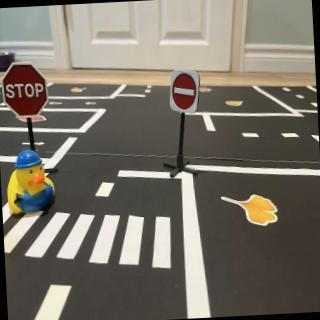duck_specialty: (6, 151, 57, 218)
road_crosswalk: (3, 193, 177, 282)
road_oneway: (84, 99, 102, 108), (48, 102, 69, 107)
sign_noentry: (169, 70, 203, 117)
sign_stop: (3, 62, 50, 118)
